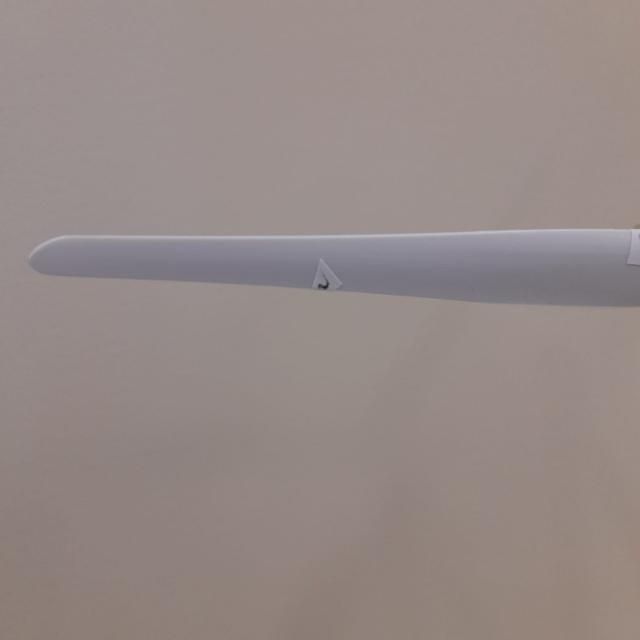dano: (310, 268, 336, 296)
